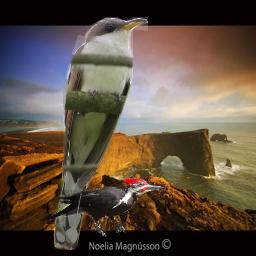Cuckoo: (54, 17, 148, 250)
Woodpecker: (40, 177, 166, 238)
